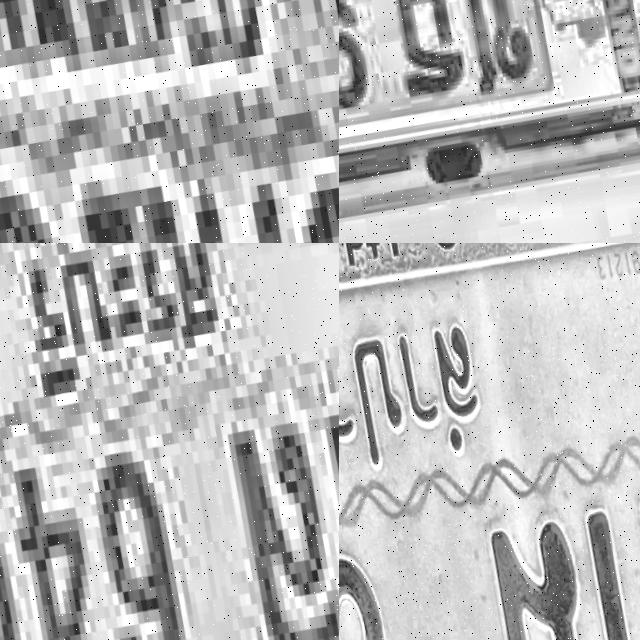license-plate: (0, 243, 339, 640), (339, 243, 640, 640), (0, 0, 339, 243), (339, 0, 640, 229)
